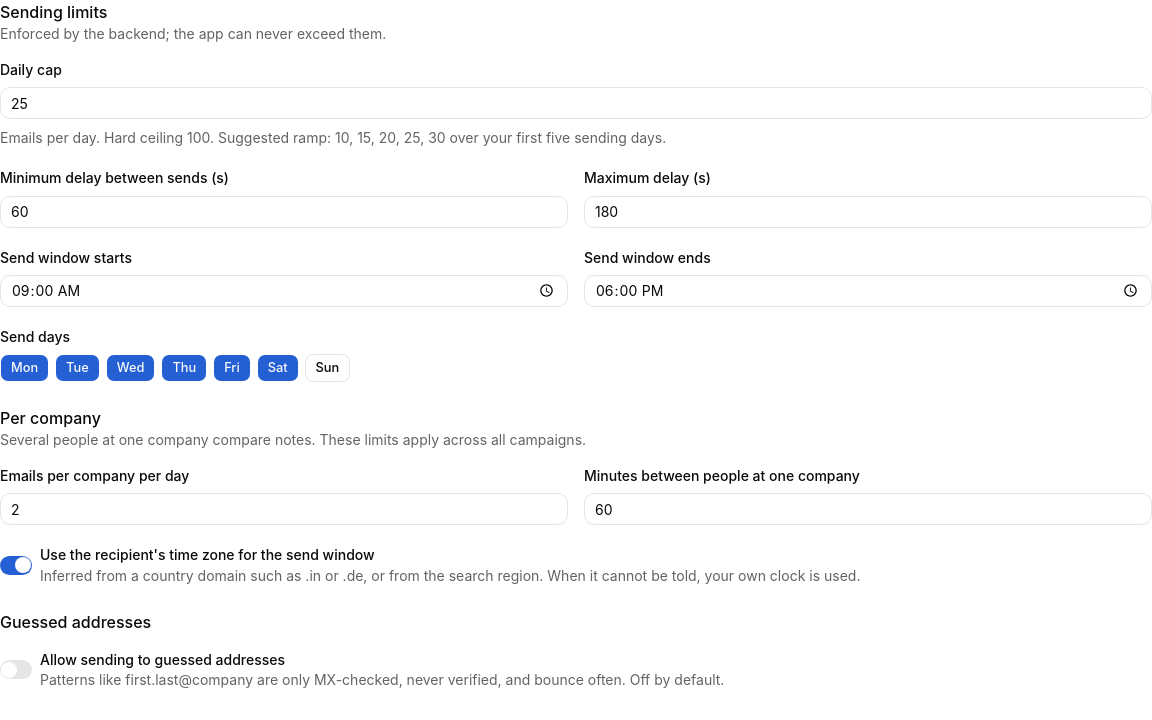
Test: SendingTab › warns inline above 25 and saves the new values, showing server warnings
The width and height of the screenshot is (1152, 720).
Replace the text in the number field labelled "Daily cap" with "30": (576, 103) left=0, top=87, right=1151, bottom=119
(page scrolled)
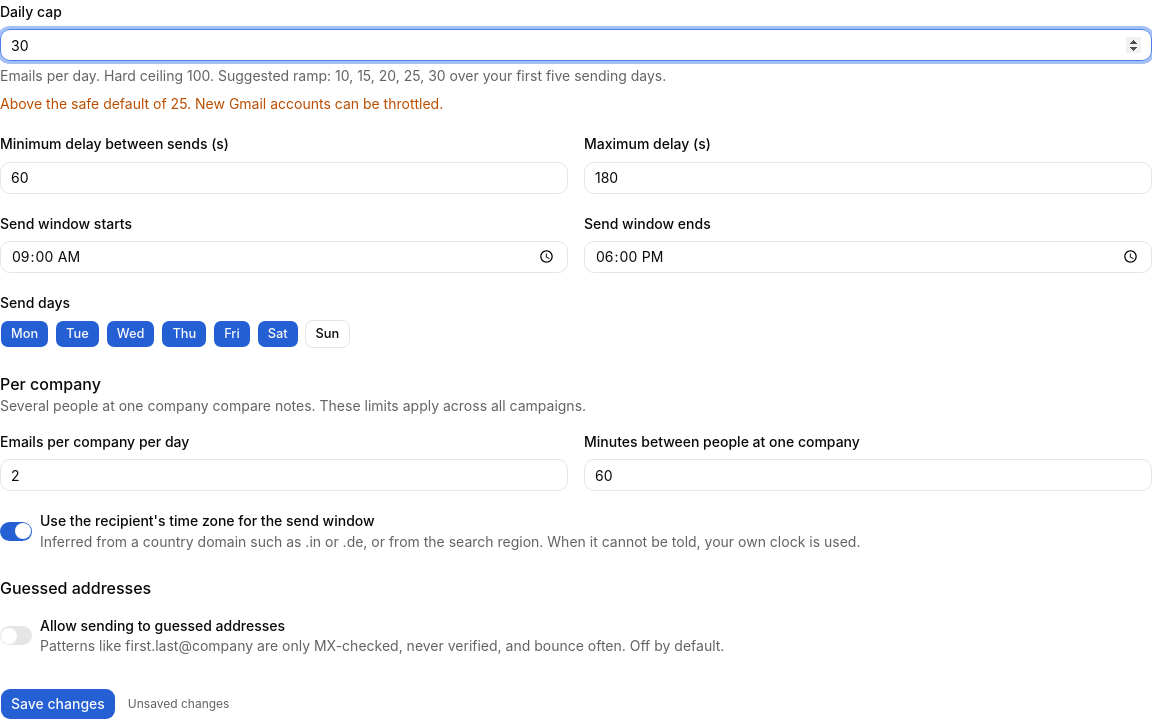
expect the text "Above the safe default of 25. New Gmail accounts can be throttled." is shown: met, box left=0, top=95, right=443, bottom=112
Click the button "Save changes": (58, 704) left=0, top=688, right=116, bottom=719
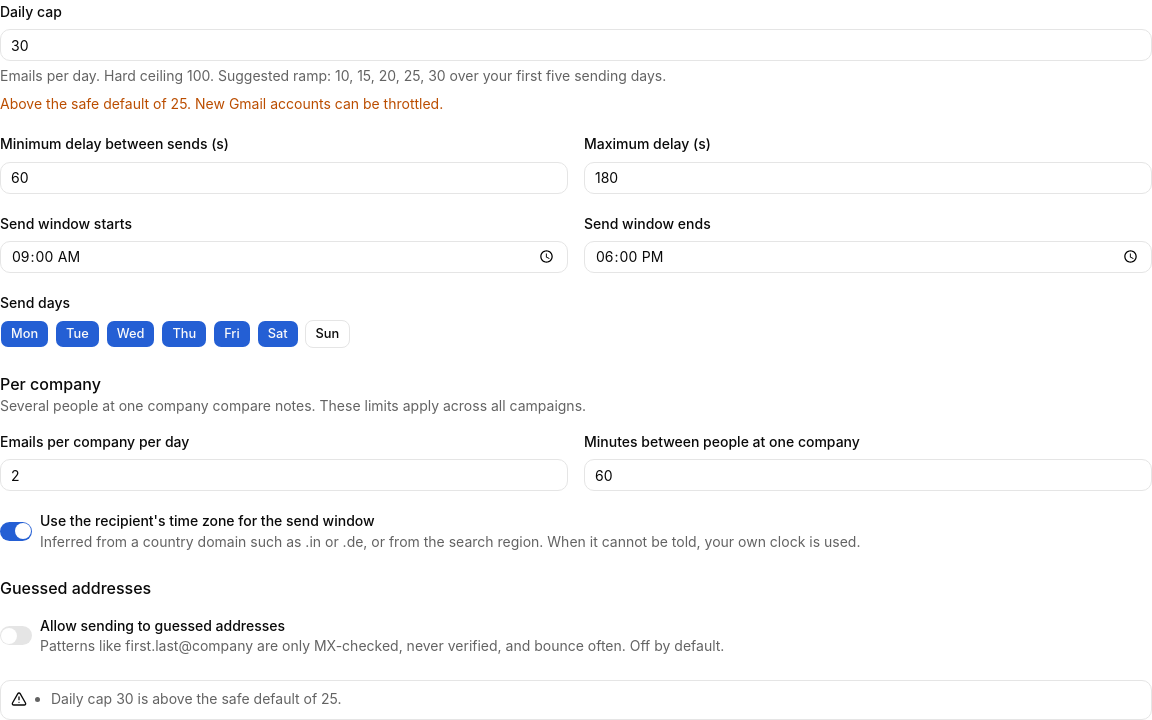
expect the list item "Daily cap 30 is above the safe default of 25." is shown: met, box left=51, top=690, right=342, bottom=707
